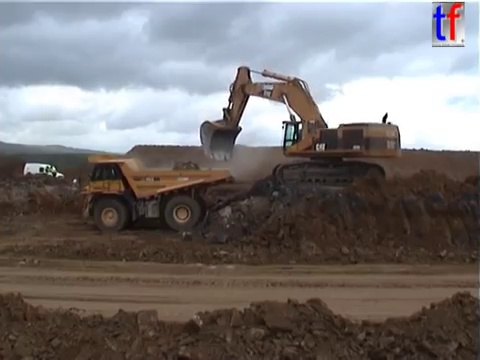excavator: (197, 63, 404, 189)
truck: (70, 152, 233, 233)
worker: (49, 163, 58, 179), (43, 163, 51, 178)
